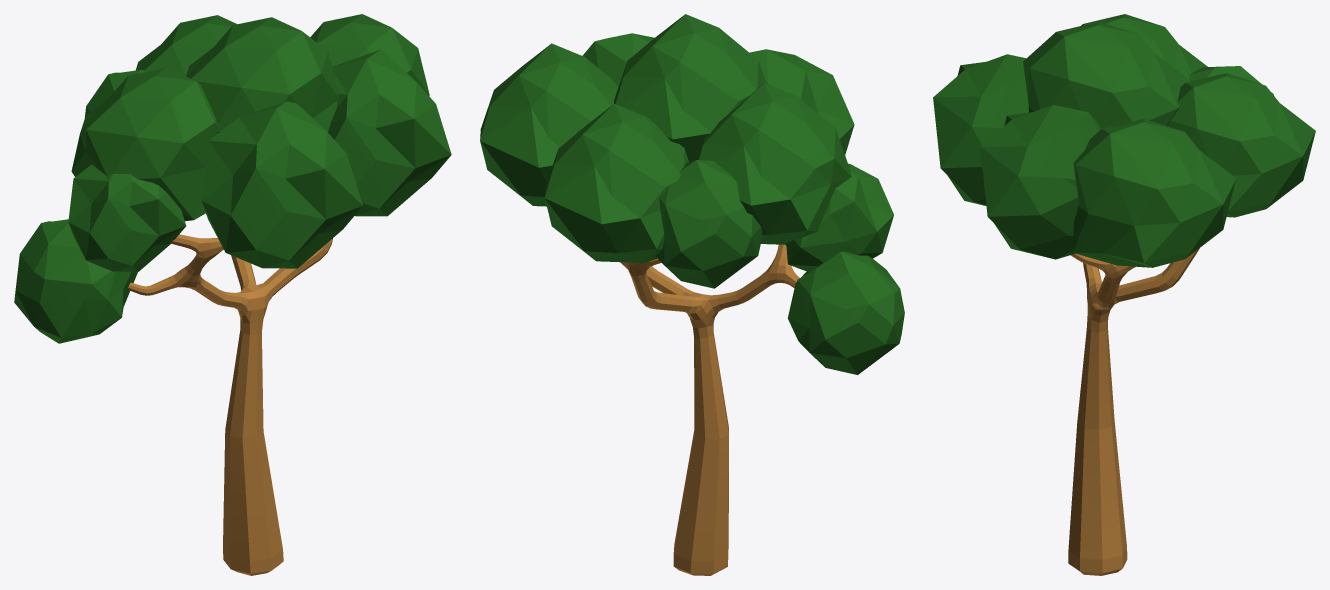
The model's file is tree.114_lev4.glb.
3 renders of one model, left to right at view 1: azimuth 30°, elevation 25°; view 2: azimuth 150°, elevation 25°; view 3: azimuth 270°, elevation 25°, orthographic. The views are drawn at different scales.
Parts seen in each view (by area): view 1: tree.114_lev4; view 2: tree.114_lev4; view 3: tree.114_lev4.
Part boxes in pixels (<box>): tree.114_lev4: <box>14,14,451,575</box>; tree.114_lev4: <box>480,14,904,575</box>; tree.114_lev4: <box>933,14,1315,575</box>.
Bounding box in the file's own units: 0.7925 × 1 × 0.6362.
